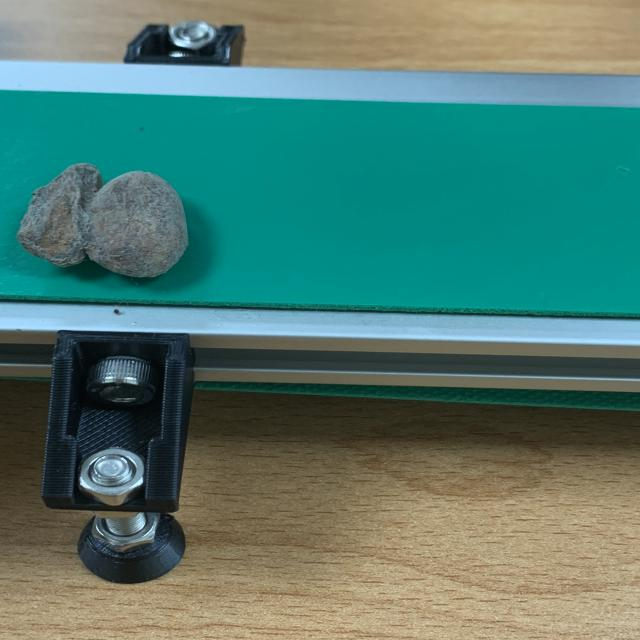Agglomerated_cocoabeans: (0, 147, 289, 323)
